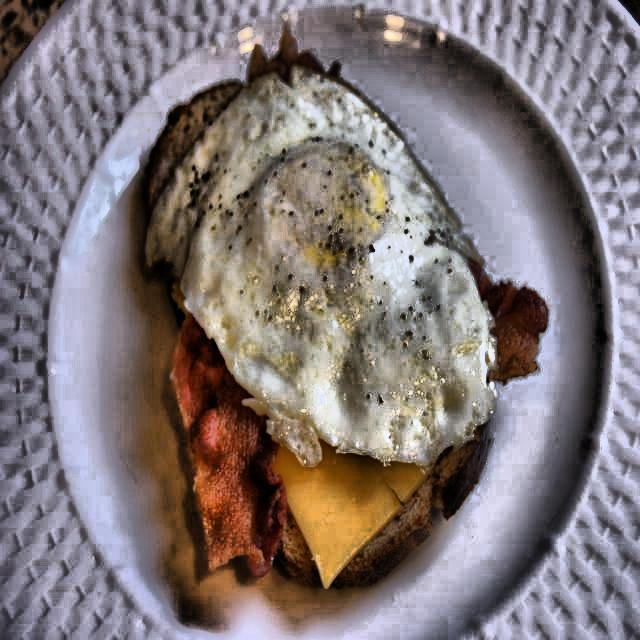Food: (140, 54, 500, 454)
